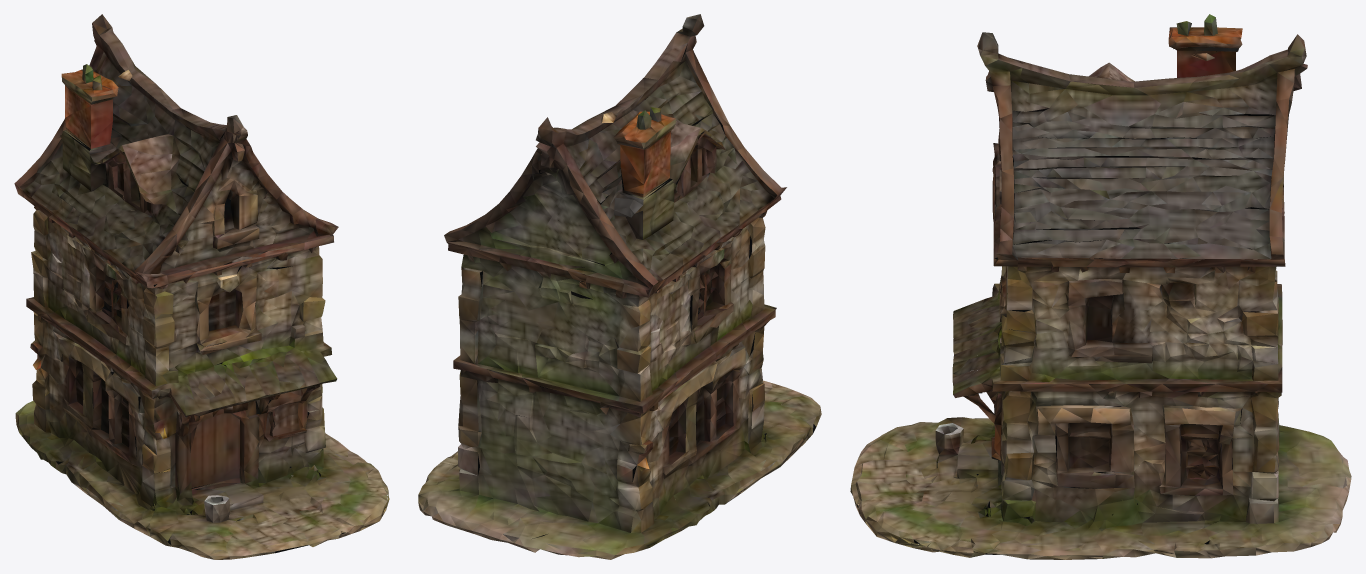
Rendered from house_stone_fantasy_lod0.glb.
3 views of the same model, side by side, from view 1: azimuth 30°, elevation 25°; view 2: azimuth 150°, elevation 25°; view 3: azimuth 270°, elevation 25° (orthographic). The views are drawn at different scales.
Parts seen in each view (by area): view 1: house_stone_fantasy_lod0; view 2: house_stone_fantasy_lod0; view 3: house_stone_fantasy_lod0.
Boxes of the visible parts, left/top/right/bottom form: house_stone_fantasy_lod0: left=14, top=14, right=389, bottom=559; house_stone_fantasy_lod0: left=418, top=14, right=821, bottom=559; house_stone_fantasy_lod0: left=850, top=14, right=1351, bottom=559.
Bounding box in the file's own units: 4.47 × 7 × 7.05.
1 material, 1 textured.
